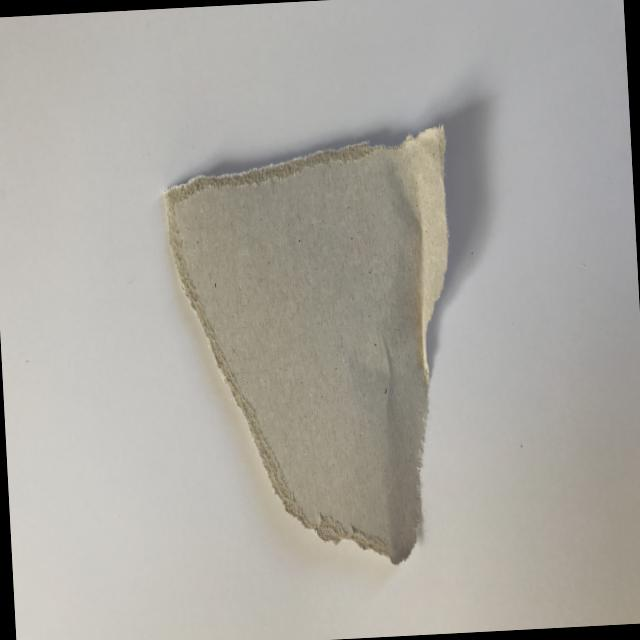Paper: (144, 116, 490, 592)
